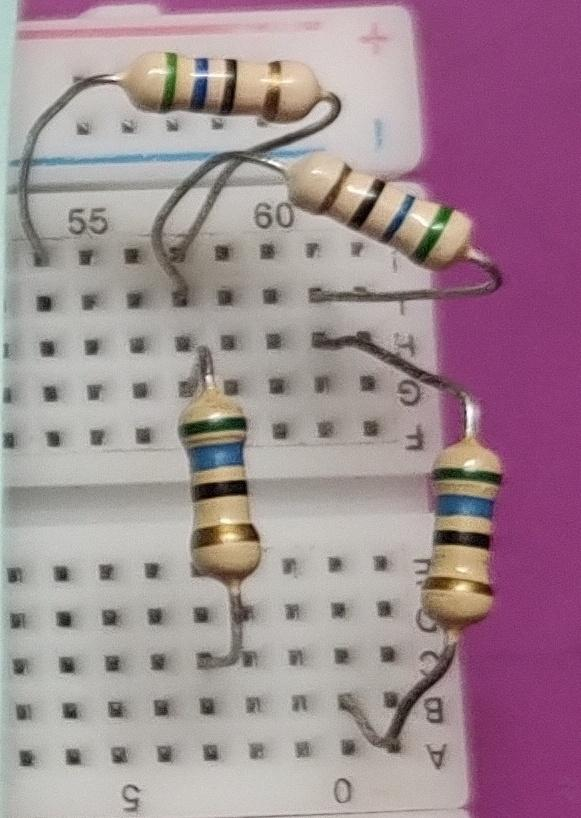resistor: (152, 372, 298, 617), (405, 417, 527, 660), (270, 152, 503, 278), (99, 44, 335, 135)
